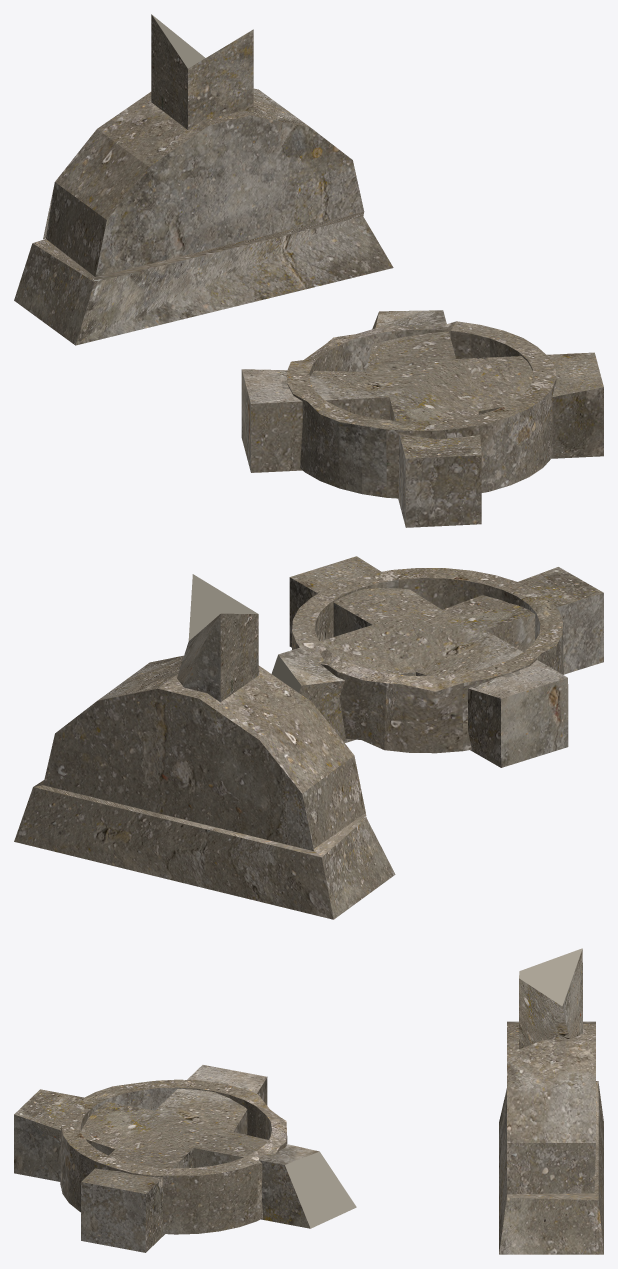
File: gravestone2-broken.fbx
3 views of the same model, one above another, from view 1: azimuth 30°, elevation 25°; view 2: azimuth 150°, elevation 25°; view 3: azimuth 270°, elevation 25° (orthographic). The views are drawn at different scales.
Parts seen in each view (by area): view 1: circleCrossA; view 2: circleCrossA; view 3: circleCrossA.
Part boxes in pixels (left/top/right/bottom): circleCrossA: left=14, top=14, right=603, bottom=527; circleCrossA: left=14, top=556, right=603, bottom=919; circleCrossA: left=14, top=948, right=603, bottom=1254.
Bounding box in the file's own units: 158 × 126 × 297.
1 material, 1 textured.
